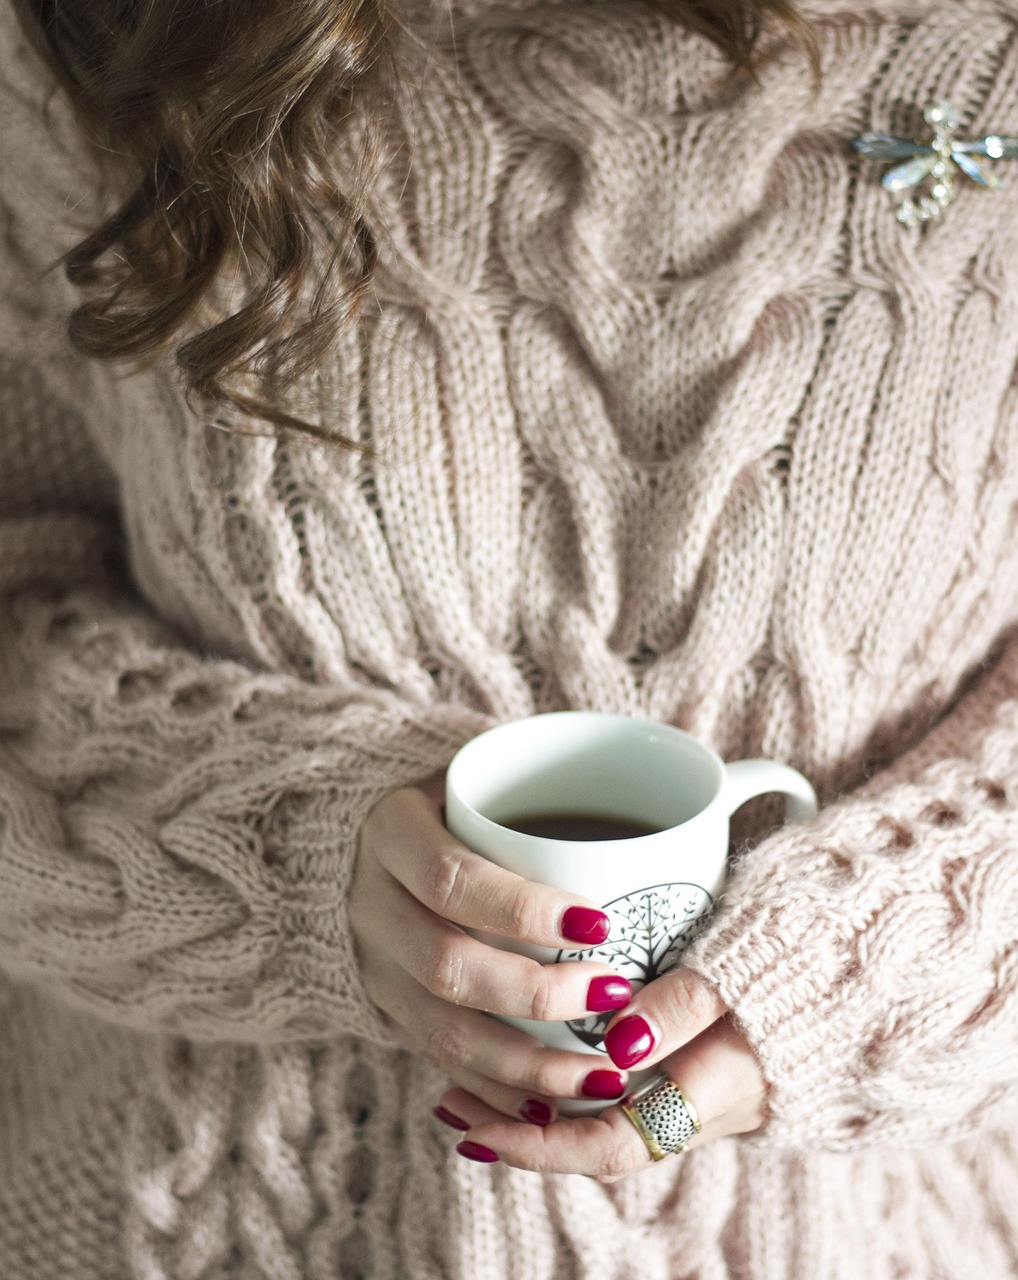mug: (421, 710, 848, 1084)
